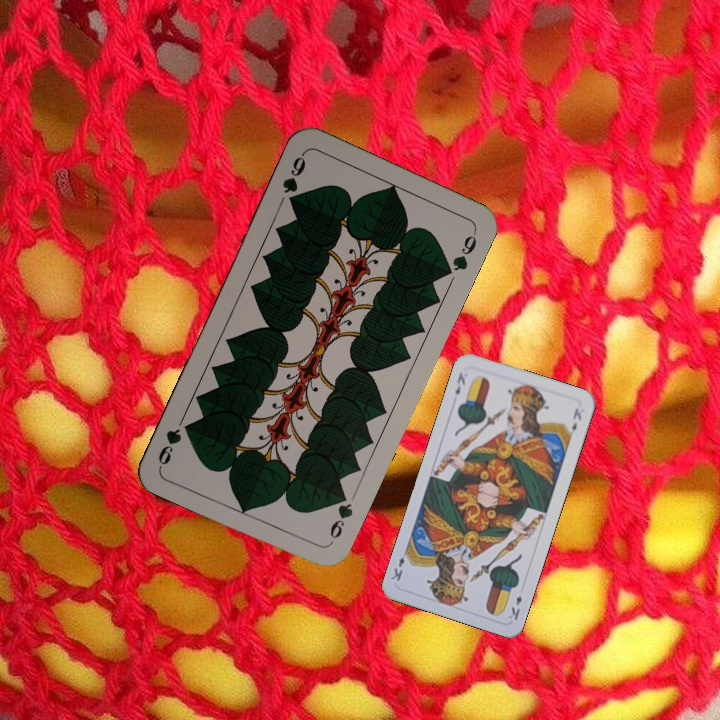EK: (504, 591, 525, 623), (451, 368, 468, 397)
G9: (278, 149, 309, 209), (326, 487, 356, 547)
